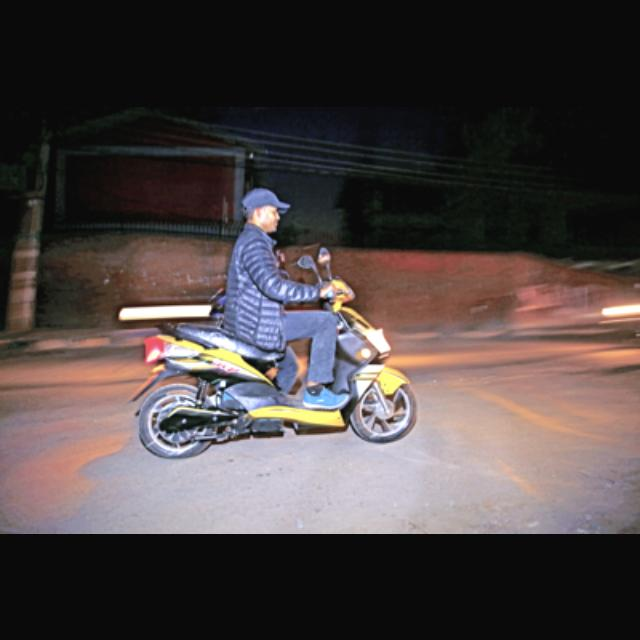Without Helmet: (235, 173, 291, 239)
